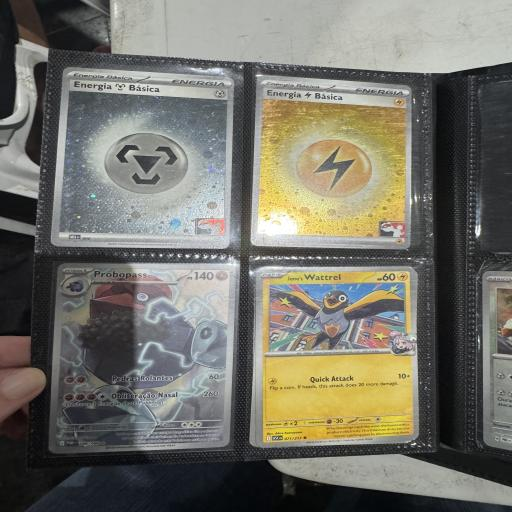card: (49, 255, 238, 462), (51, 65, 243, 259), (253, 266, 420, 449), (251, 76, 416, 252)
